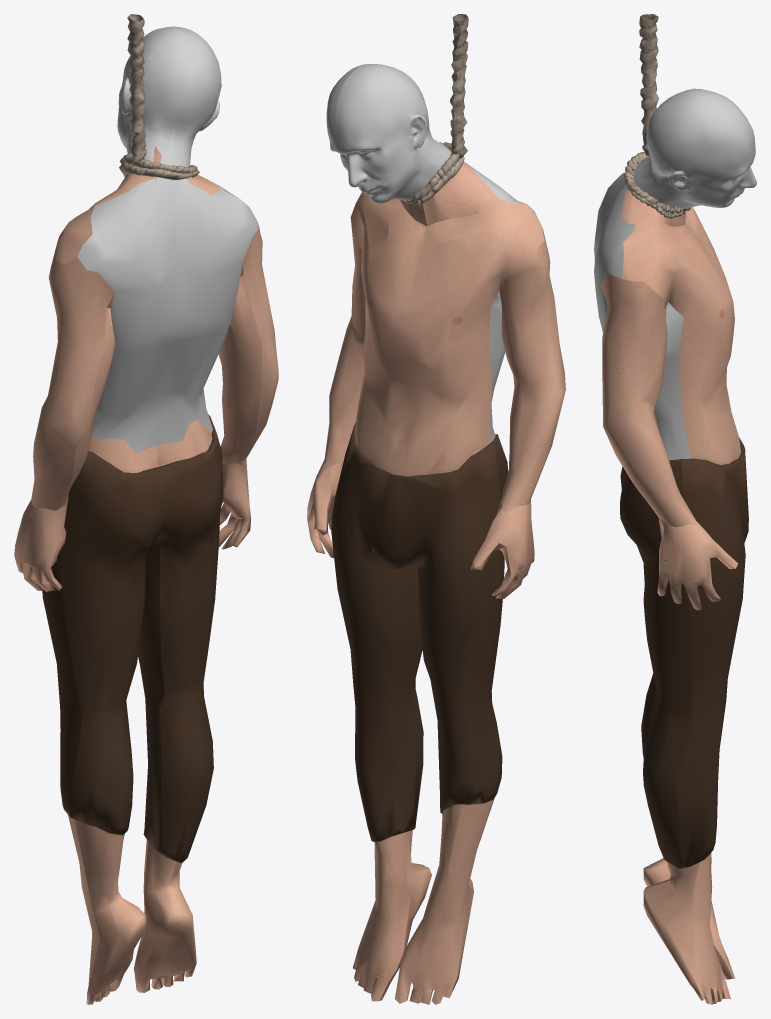
The model's file is suicide_people.fbx.
3 views of the same model, side by side, from view 1: azimuth 30°, elevation 25°; view 2: azimuth 150°, elevation 25°; view 3: azimuth 270°, elevation 25° (orthographic). The views are drawn at different scales.
Visible parts, largest first — view 1: StaticMeshActor_519, StaticMeshActor_499, StaticMeshActor_503, StaticMeshActor_494, StaticMeshActor_501, StaticMeshActor_502, StaticMeshActor_495, StaticMeshActor_518, StaticMeshActor_507, StaticMeshActor_505, StaticMeshActor_498, StaticMeshActor_500 (+2 smaller); view 2: StaticMeshActor_519, StaticMeshActor_498, StaticMeshActor_494, StaticMeshActor_503, StaticMeshActor_500, StaticMeshActor_496, StaticMeshActor_501, StaticMeshActor_518, StaticMeshActor_497, StaticMeshActor_507, StaticMeshActor_499, StaticMeshActor_495 (+4 smaller); view 3: StaticMeshActor_519, StaticMeshActor_498, StaticMeshActor_501, StaticMeshActor_494, StaticMeshActor_499, StaticMeshActor_496, StaticMeshActor_506, StaticMeshActor_495, StaticMeshActor_518, StaticMeshActor_497, StaticMeshActor_502, StaticMeshActor_500.
Boxes of the visible parts, x1,y1,x2,y2 form: StaticMeshActor_519: (42, 414, 223, 862); StaticMeshActor_499: (77, 177, 258, 452); StaticMeshActor_503: (31, 257, 115, 510); StaticMeshActor_494: (117, 26, 221, 166); StaticMeshActor_501: (218, 226, 278, 464); StaticMeshActor_502: (75, 437, 158, 1004); StaticMeshActor_495: (134, 419, 212, 992); StaticMeshActor_518: (119, 14, 199, 179); StaticMeshActor_507: (14, 500, 58, 591); StaticMeshActor_505: (218, 462, 249, 549); StaticMeshActor_498: (51, 187, 257, 266); StaticMeshActor_500: (68, 815, 99, 1002); StaticMeshActor_519: (331, 422, 508, 841); StaticMeshActor_498: (350, 192, 544, 476); StaticMeshActor_494: (326, 64, 451, 203); StaticMeshActor_503: (499, 227, 565, 512); StaticMeshActor_500: (394, 447, 492, 1004); StaticMeshActor_496: (353, 833, 411, 1001); StaticMeshActor_501: (324, 218, 365, 468); StaticMeshActor_518: (405, 14, 468, 204); StaticMeshActor_497: (400, 142, 498, 226); StaticMeshActor_507: (473, 500, 534, 598); StaticMeshActor_499: (464, 161, 538, 444); StaticMeshActor_495: (361, 830, 431, 1000); StaticMeshActor_519: (620, 437, 748, 868); StaticMeshActor_498: (622, 207, 741, 464); StaticMeshActor_501: (601, 273, 699, 527); StaticMeshActor_494: (633, 88, 756, 208); StaticMeshActor_499: (594, 172, 690, 458); StaticMeshActor_496: (665, 853, 730, 1004); StaticMeshActor_506: (657, 516, 737, 610); StaticMeshActor_495: (643, 458, 730, 1003); StaticMeshActor_518: (624, 14, 691, 218); StaticMeshActor_497: (621, 156, 685, 226); StaticMeshActor_502: (643, 858, 732, 979); StaticMeshActor_500: (710, 856, 734, 978).
Size of what is drawn, in the model's own units: 0.5901 by 2.46 by 0.3778.
